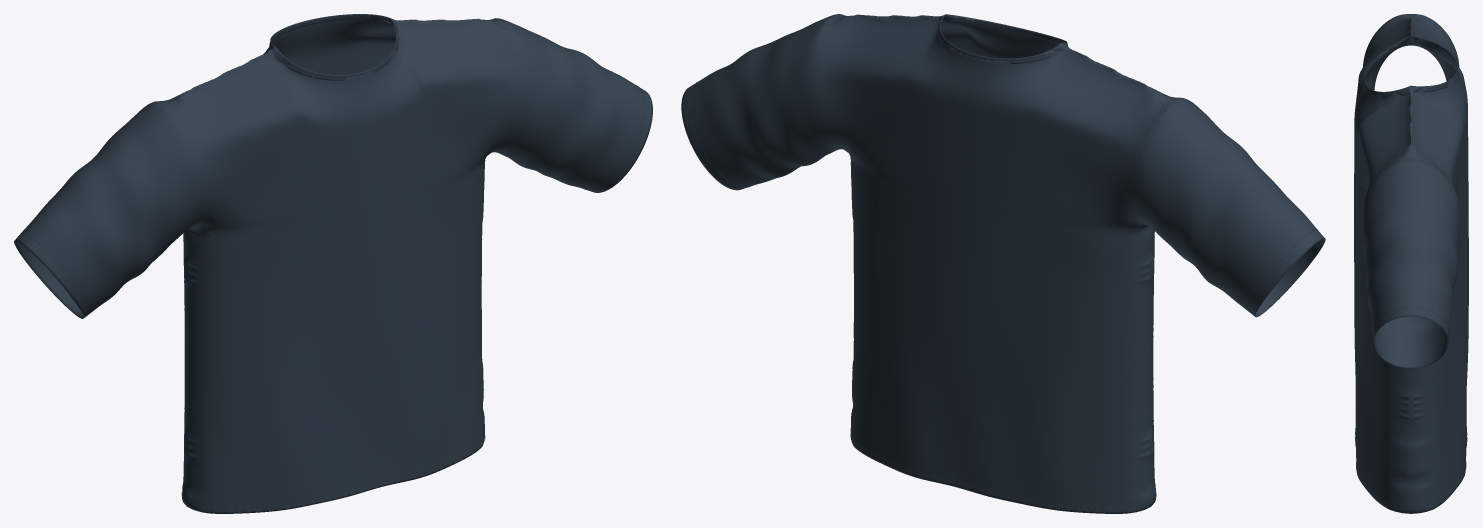
Rendered from tee-oversized.glb.
3 views of the same model, side by side, from view 1: azimuth 30°, elevation 25°; view 2: azimuth 150°, elevation 25°; view 3: azimuth 270°, elevation 25° (orthographic). The views are drawn at different scales.
Visible parts, largest first — view 1: tee-oversized, Collar; view 2: tee-oversized, Collar; view 3: tee-oversized, Collar.
Boxes of the visible parts, x1=… form: tee-oversized: x1=14, y1=15, x2=652, y2=513; Collar: x1=269, y1=14, x2=398, y2=80; tee-oversized: x1=681, y1=14, x2=1325, y2=513; Collar: x1=938, y1=14, x2=1068, y2=63; tee-oversized: x1=1354, y1=14, x2=1468, y2=513; Collar: x1=1364, y1=35, x2=1457, y2=98.
Bounding box in the file's own units: 2.06 × 1.38 × 0.3694.
